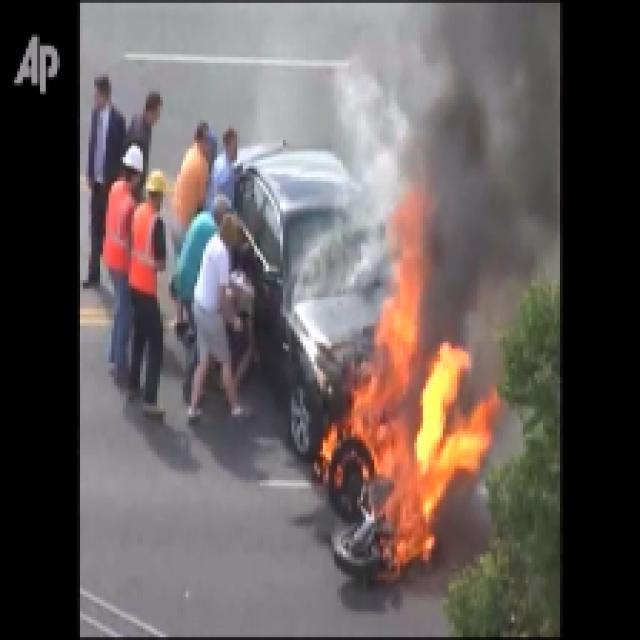Fire: (353, 374, 481, 548)
Smoke: (442, 66, 542, 332)
